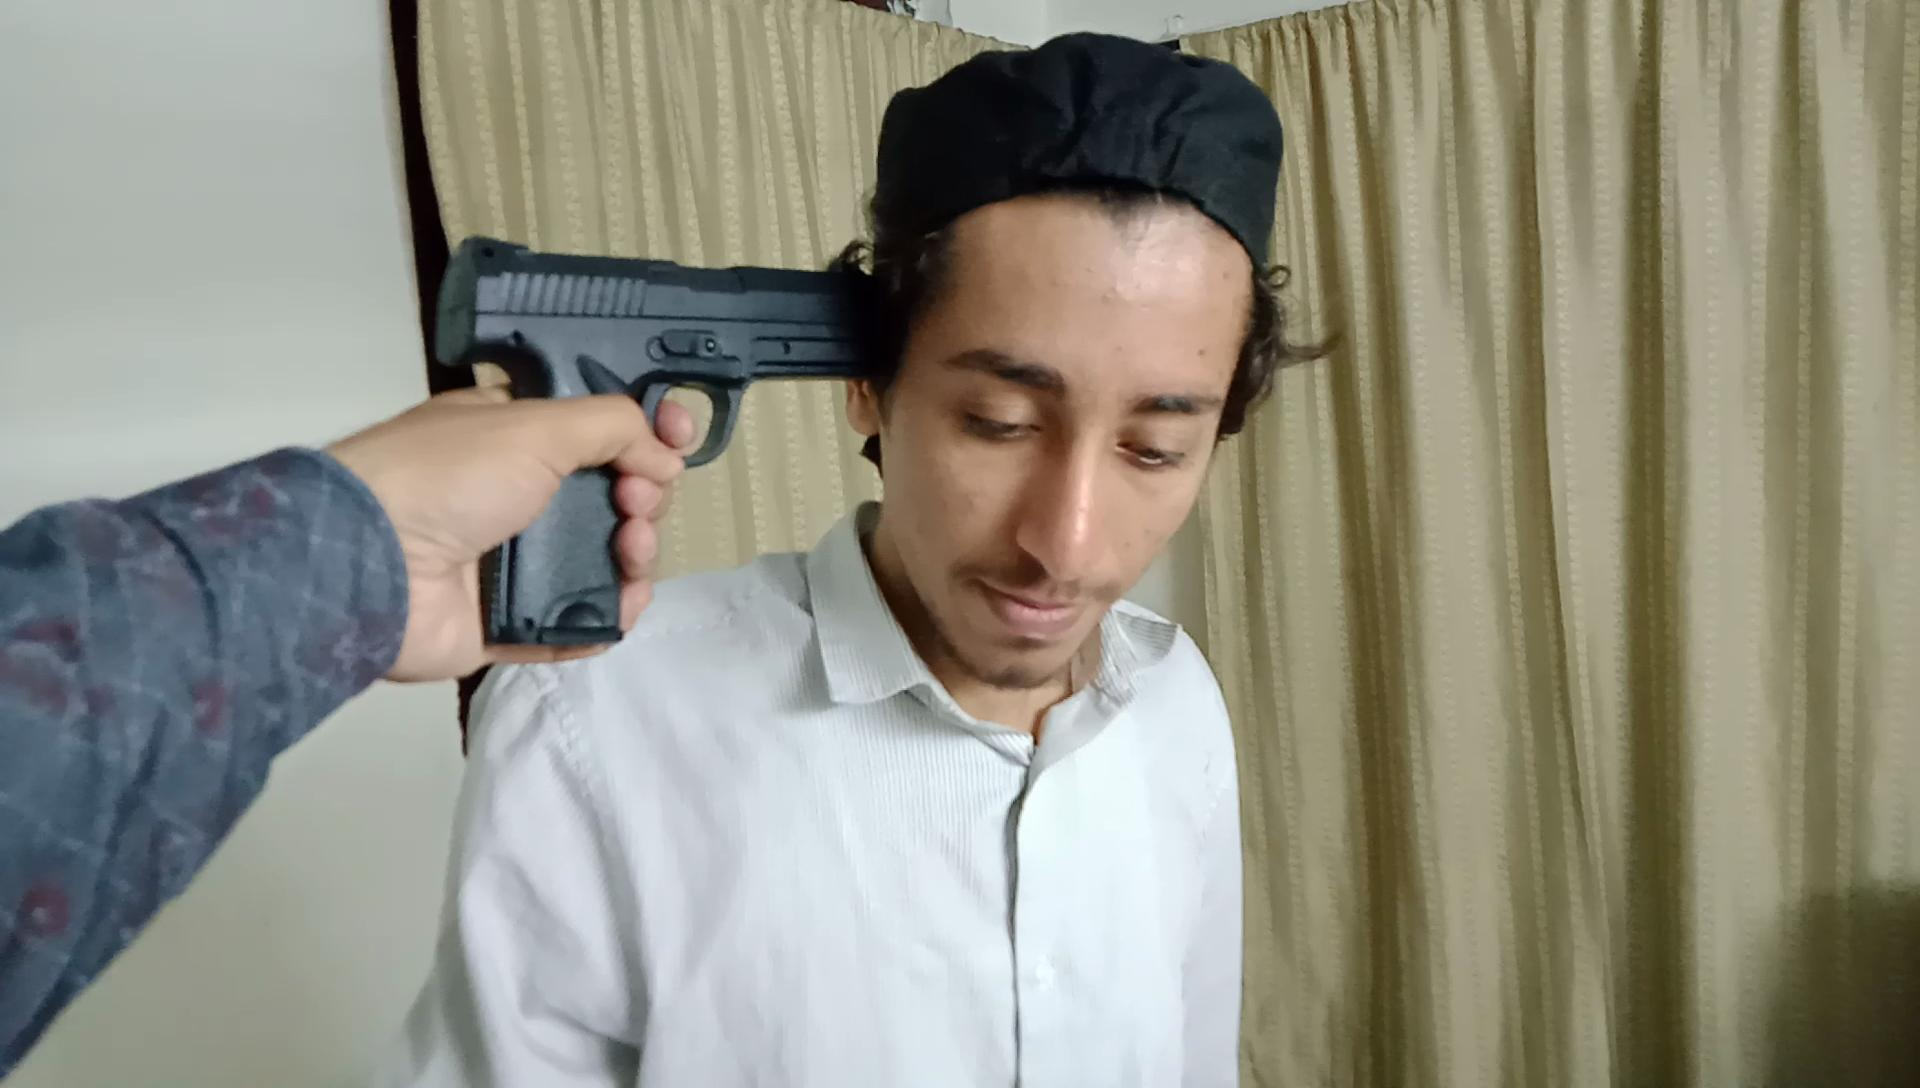weapon: (382, 22, 1345, 1088), (421, 223, 873, 661)
